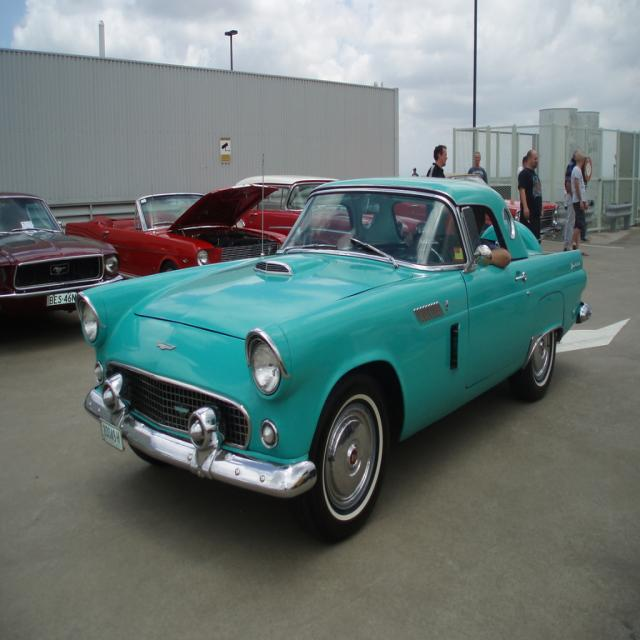car: (67, 173, 597, 526)
